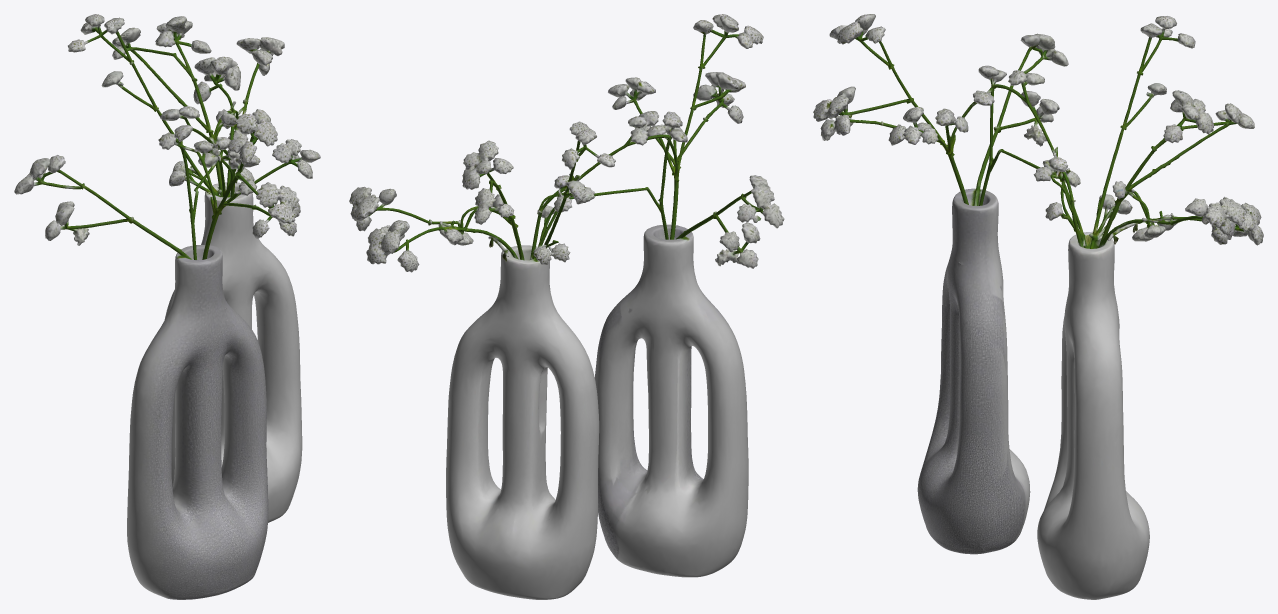
Rendered from decor-vases-decorative.glb.
3 renders of one model, left to right at view 1: azimuth 30°, elevation 25°; view 2: azimuth 150°, elevation 25°; view 3: azimuth 270°, elevation 25°, orthographic. The views are drawn at different scales.
Parts seen in each view (by area): view 1: tripo_node_a40ad92d-c5cd-4360-bb48-d1afa368e2c4; view 2: tripo_node_a40ad92d-c5cd-4360-bb48-d1afa368e2c4; view 3: tripo_node_a40ad92d-c5cd-4360-bb48-d1afa368e2c4.
Boxes of the visible parts, x1,y1,x2,y2 form: tripo_node_a40ad92d-c5cd-4360-bb48-d1afa368e2c4: [14, 14, 320, 599]; tripo_node_a40ad92d-c5cd-4360-bb48-d1afa368e2c4: [349, 14, 784, 599]; tripo_node_a40ad92d-c5cd-4360-bb48-d1afa368e2c4: [813, 14, 1263, 599].
Bounding box in the file's own units: 0.2903 × 0.4 × 0.3165.
Materials: 1 (1 with a texture image).
